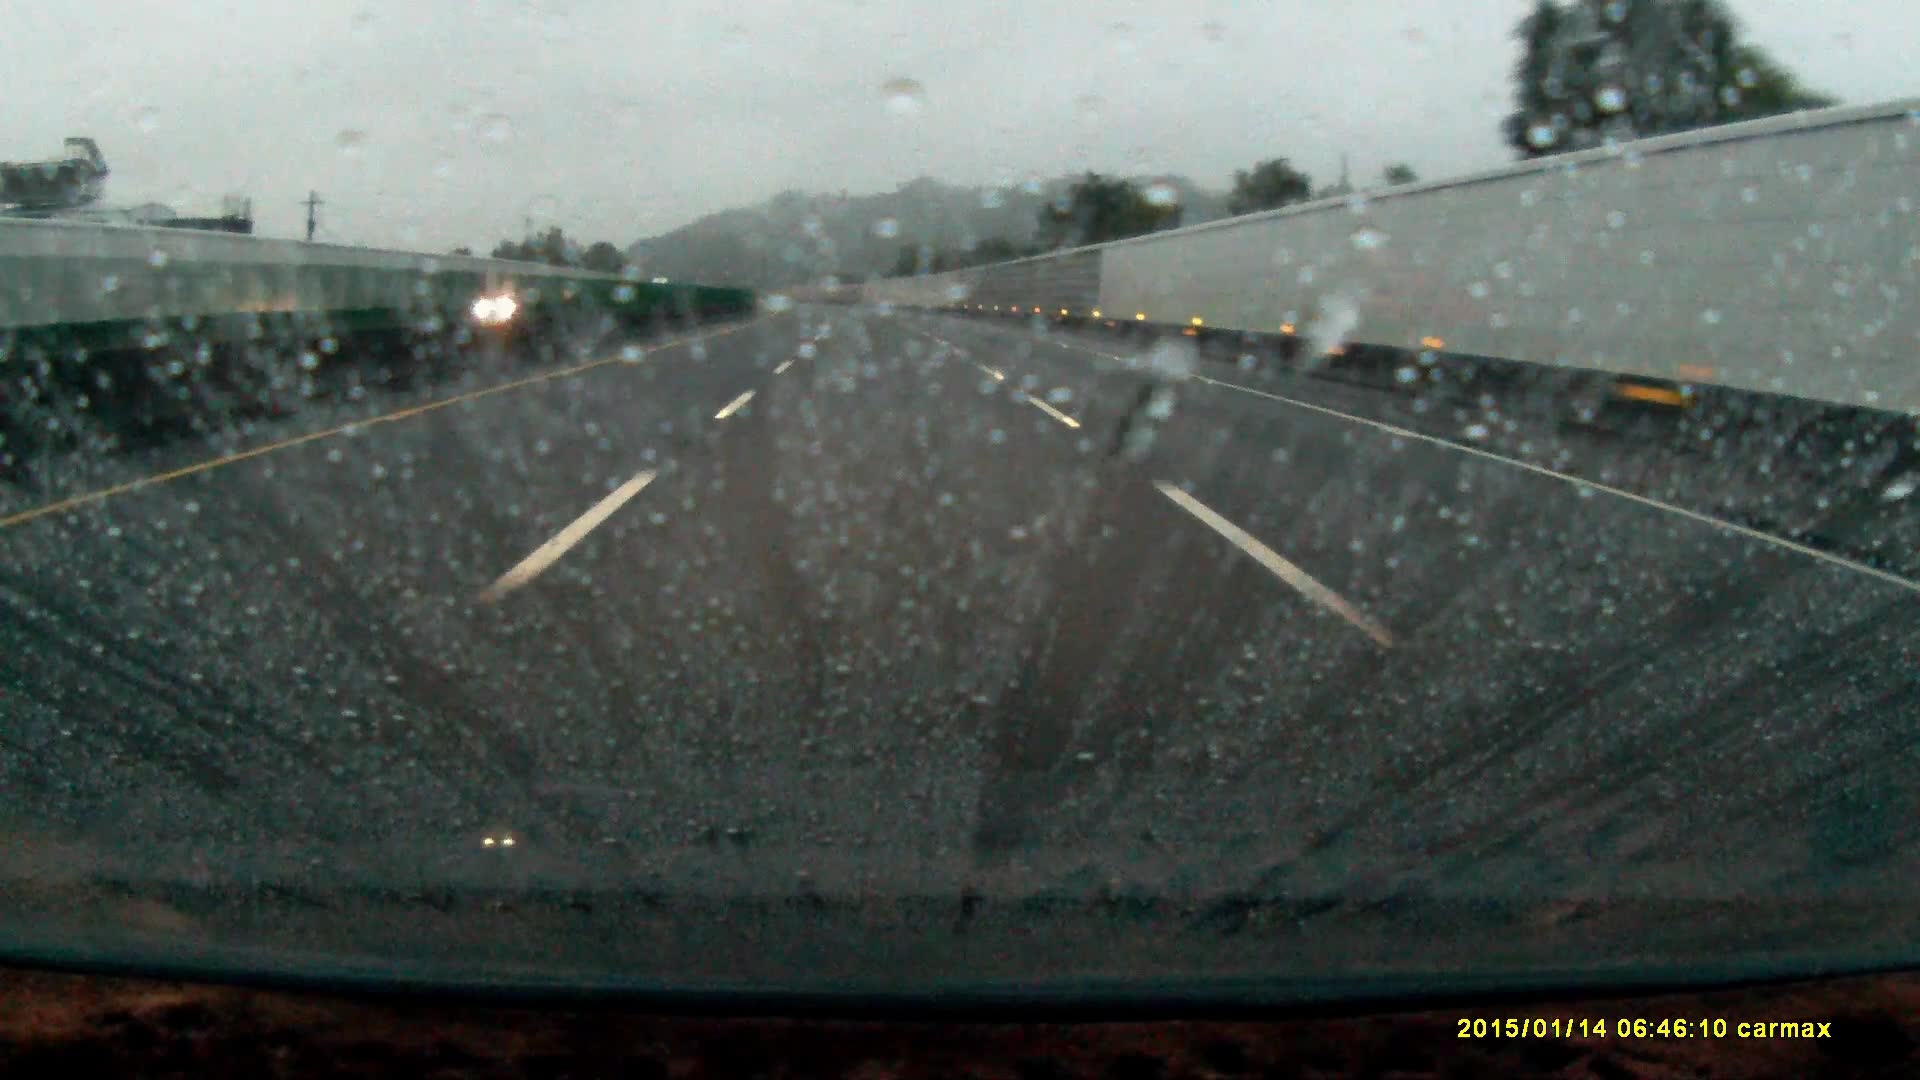vehicle: (479, 293, 531, 320)
